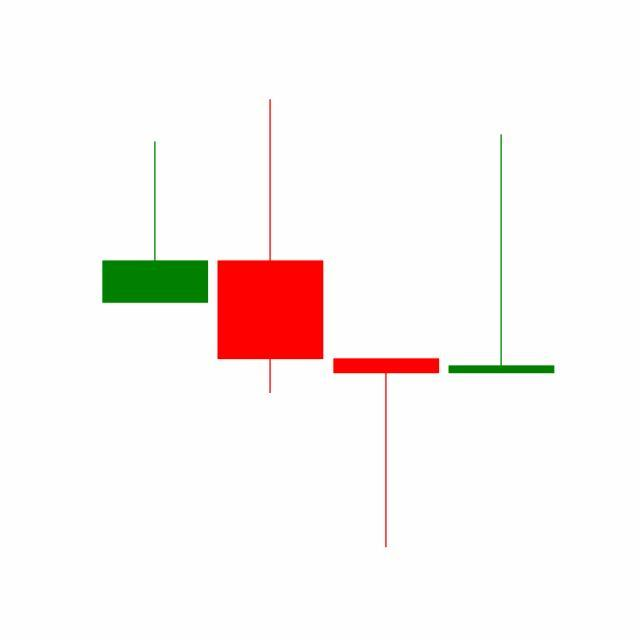Hammer: (329, 356, 445, 550)
